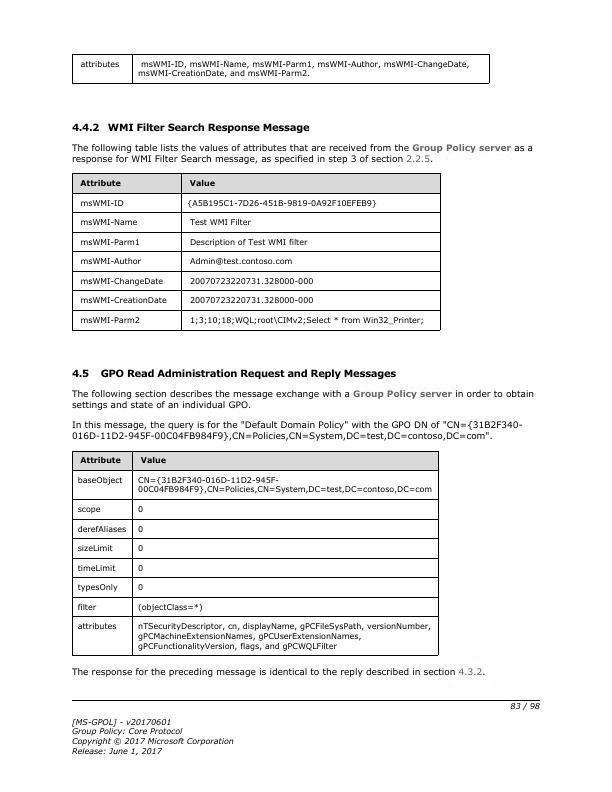table: (71, 450, 440, 656), (73, 173, 442, 332), (71, 53, 490, 86)
text: (71, 386, 538, 410), (70, 417, 523, 441), (71, 141, 535, 164), (69, 714, 237, 760), (72, 665, 490, 679), (71, 366, 400, 381), (70, 121, 311, 134)
